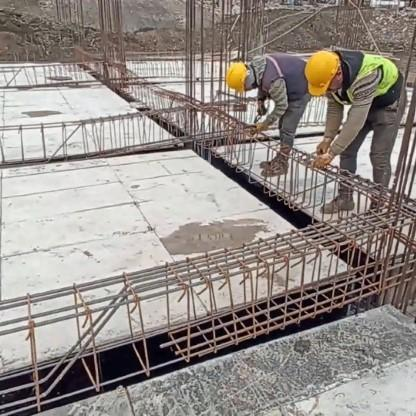helmet: (292, 58, 355, 101), (222, 51, 268, 100)
